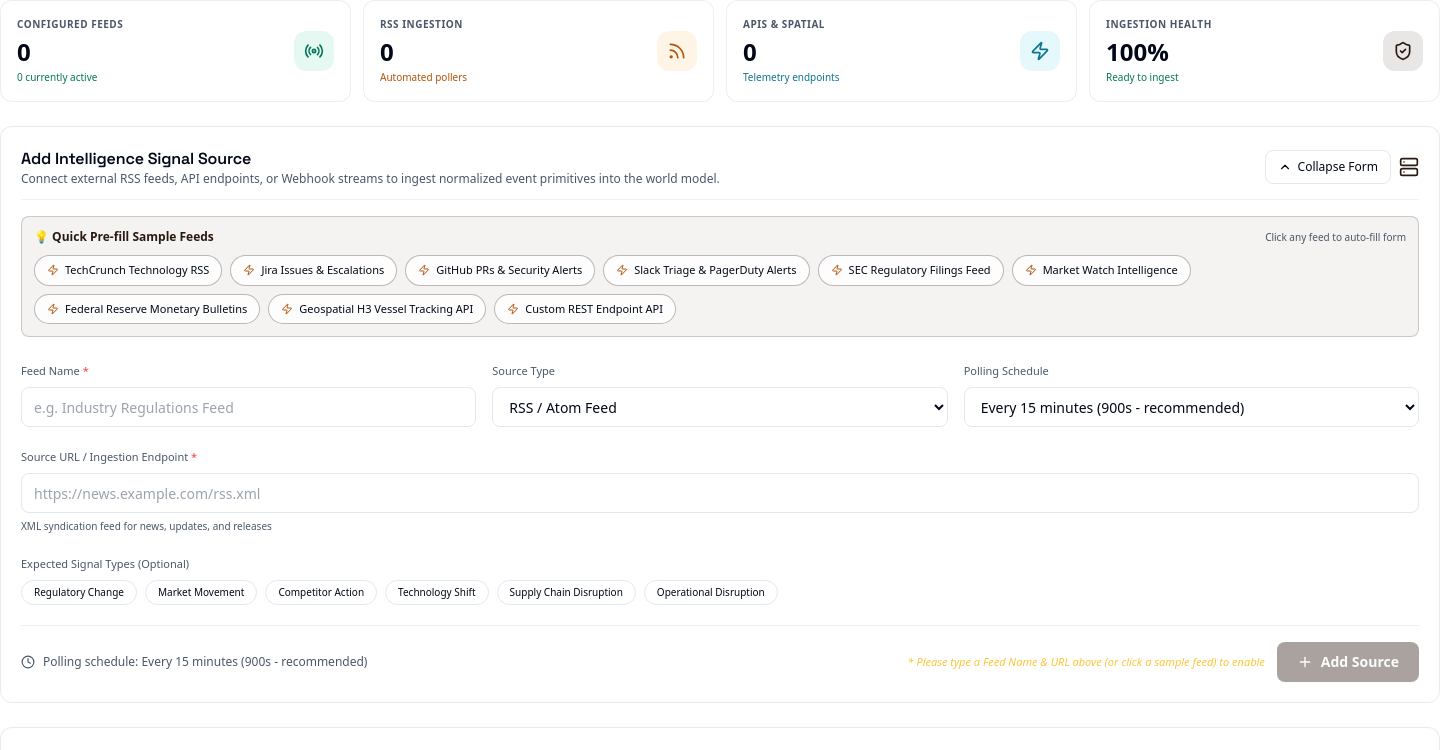
Test: SourcesView › shows duplicate URL warning when matching an existing feed URL
Expected: the button "TechCrunch Technology RSS" is shown, x1=34 y1=255 x2=222 y2=286
Type "https://techcrunch.com/feed/" into the field with placeholder "https://news.example.com/rss.xml" at (720, 493), box x1=21 y1=473 x2=1419 y2=513
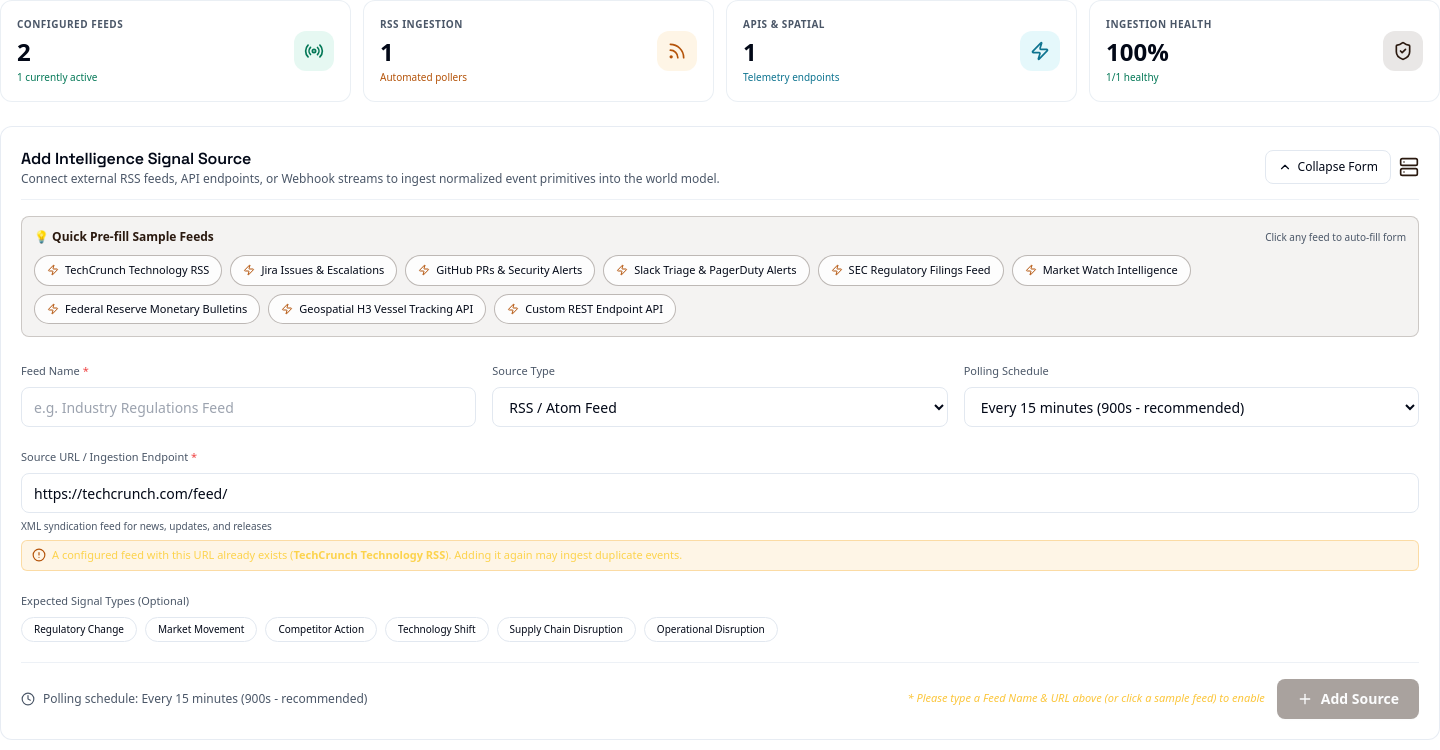
Now the text "A configured feed with this URL already exists" is shown, box x1=52 y1=547 x2=293 y2=562
